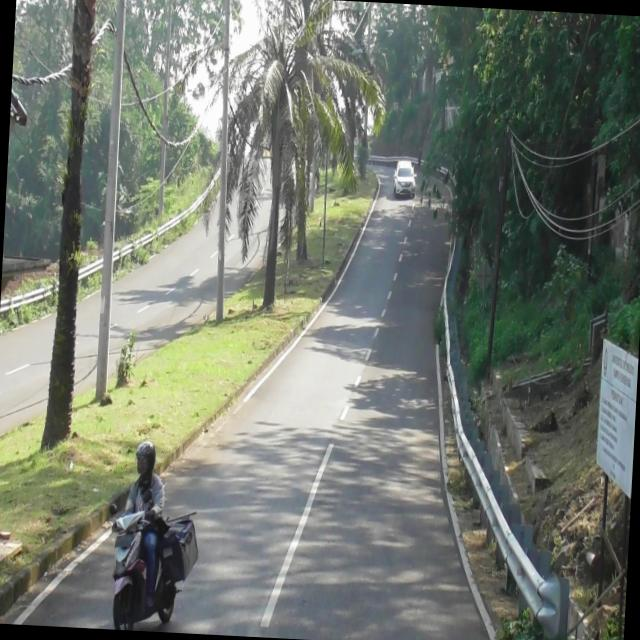motorcycle: (104, 510, 182, 633)
person: (119, 440, 168, 609)
rider_region: (109, 442, 185, 632)
